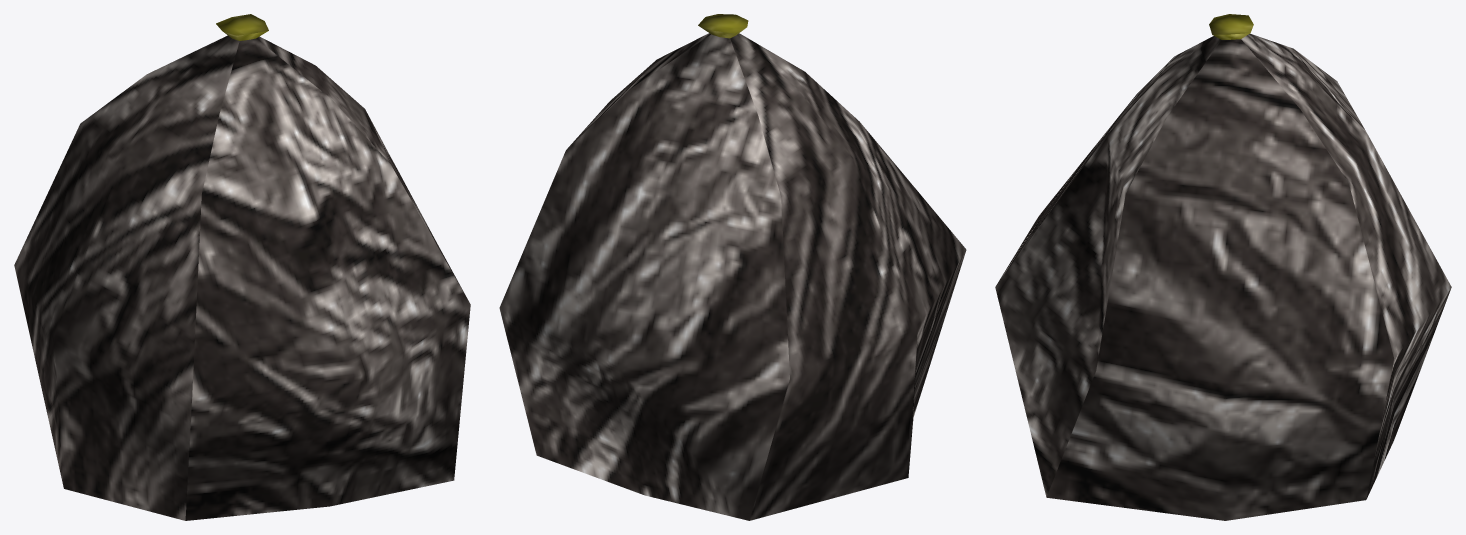
File: trashbag.fbx
The picture shows the model from 3 angles, left to right: view 1: azimuth 30°, elevation 25°; view 2: azimuth 150°, elevation 25°; view 3: azimuth 270°, elevation 25°; orthographic projection.
Parts seen in each view (by area): view 1: Cube; view 2: Cube; view 3: Cube.
Boxes of the visible parts, x1=… form: Cube: x1=14, y1=14, x2=470, y2=520; Cube: x1=499, y1=14, x2=966, y2=520; Cube: x1=995, y1=14, x2=1451, y2=520.
Bounding box in the file's own units: 191 × 199 × 197.
1 material, 1 textured.
